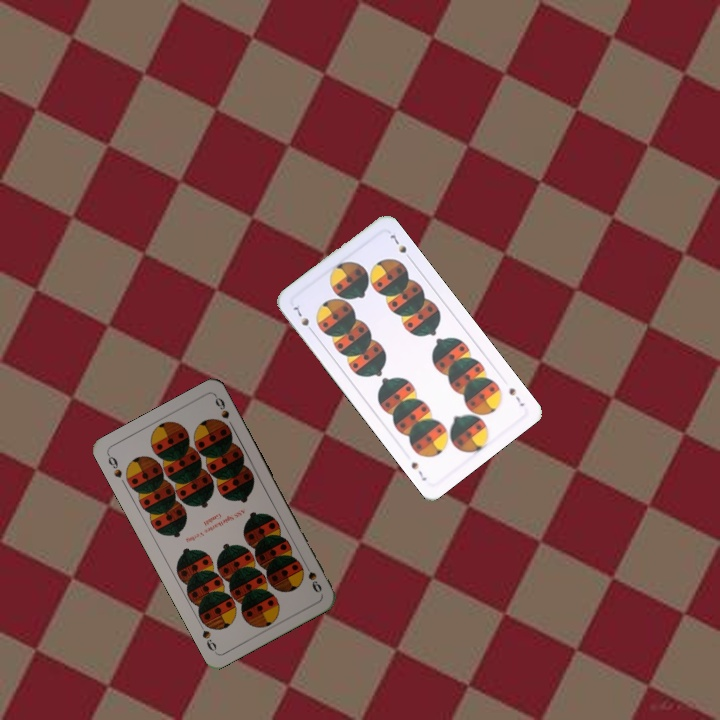S7: (289, 303, 317, 336), (505, 383, 527, 409)
S9: (300, 558, 324, 595), (103, 450, 125, 480)
